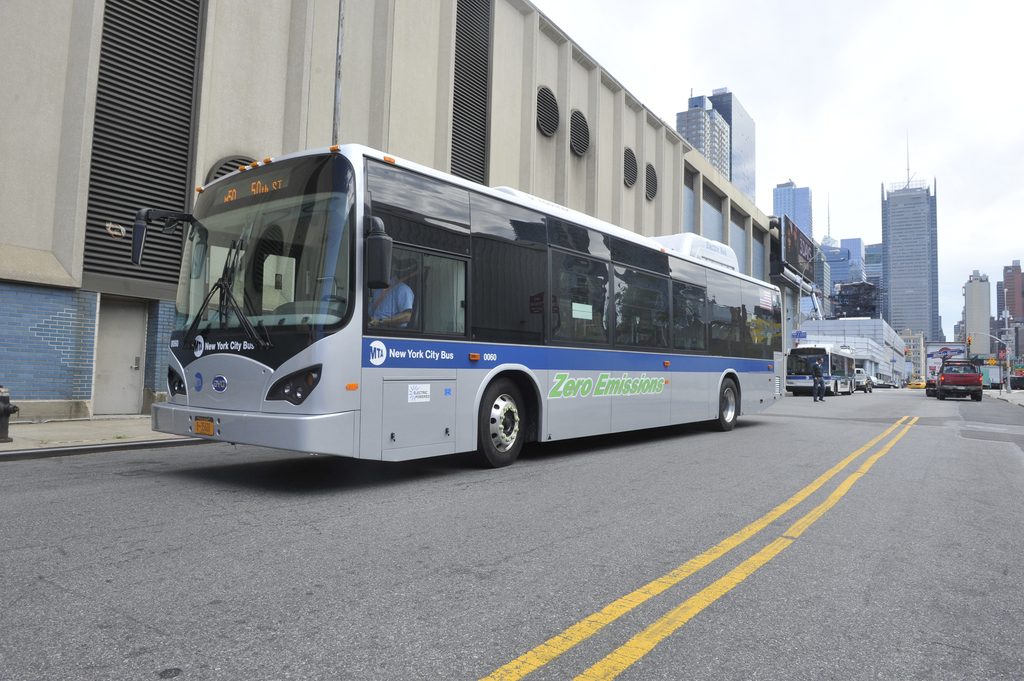Bus: (123, 130, 787, 472), (787, 340, 856, 395)
